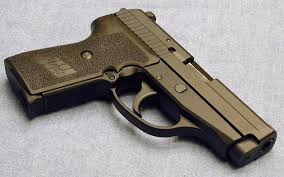gun: (3, 5, 279, 170)
